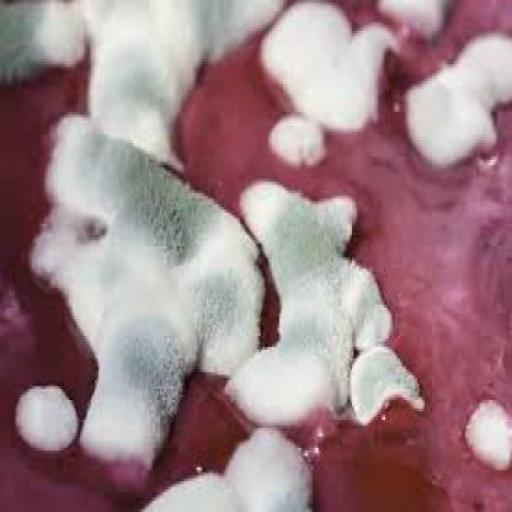biodegradable: (0, 0, 511, 510), (26, 109, 262, 458), (230, 188, 390, 422), (70, 0, 283, 165), (255, 0, 396, 123), (124, 422, 312, 510), (404, 30, 510, 168), (0, 0, 85, 76), (346, 344, 424, 425), (13, 380, 78, 450), (460, 394, 510, 470), (264, 106, 324, 166), (370, 0, 447, 37)
